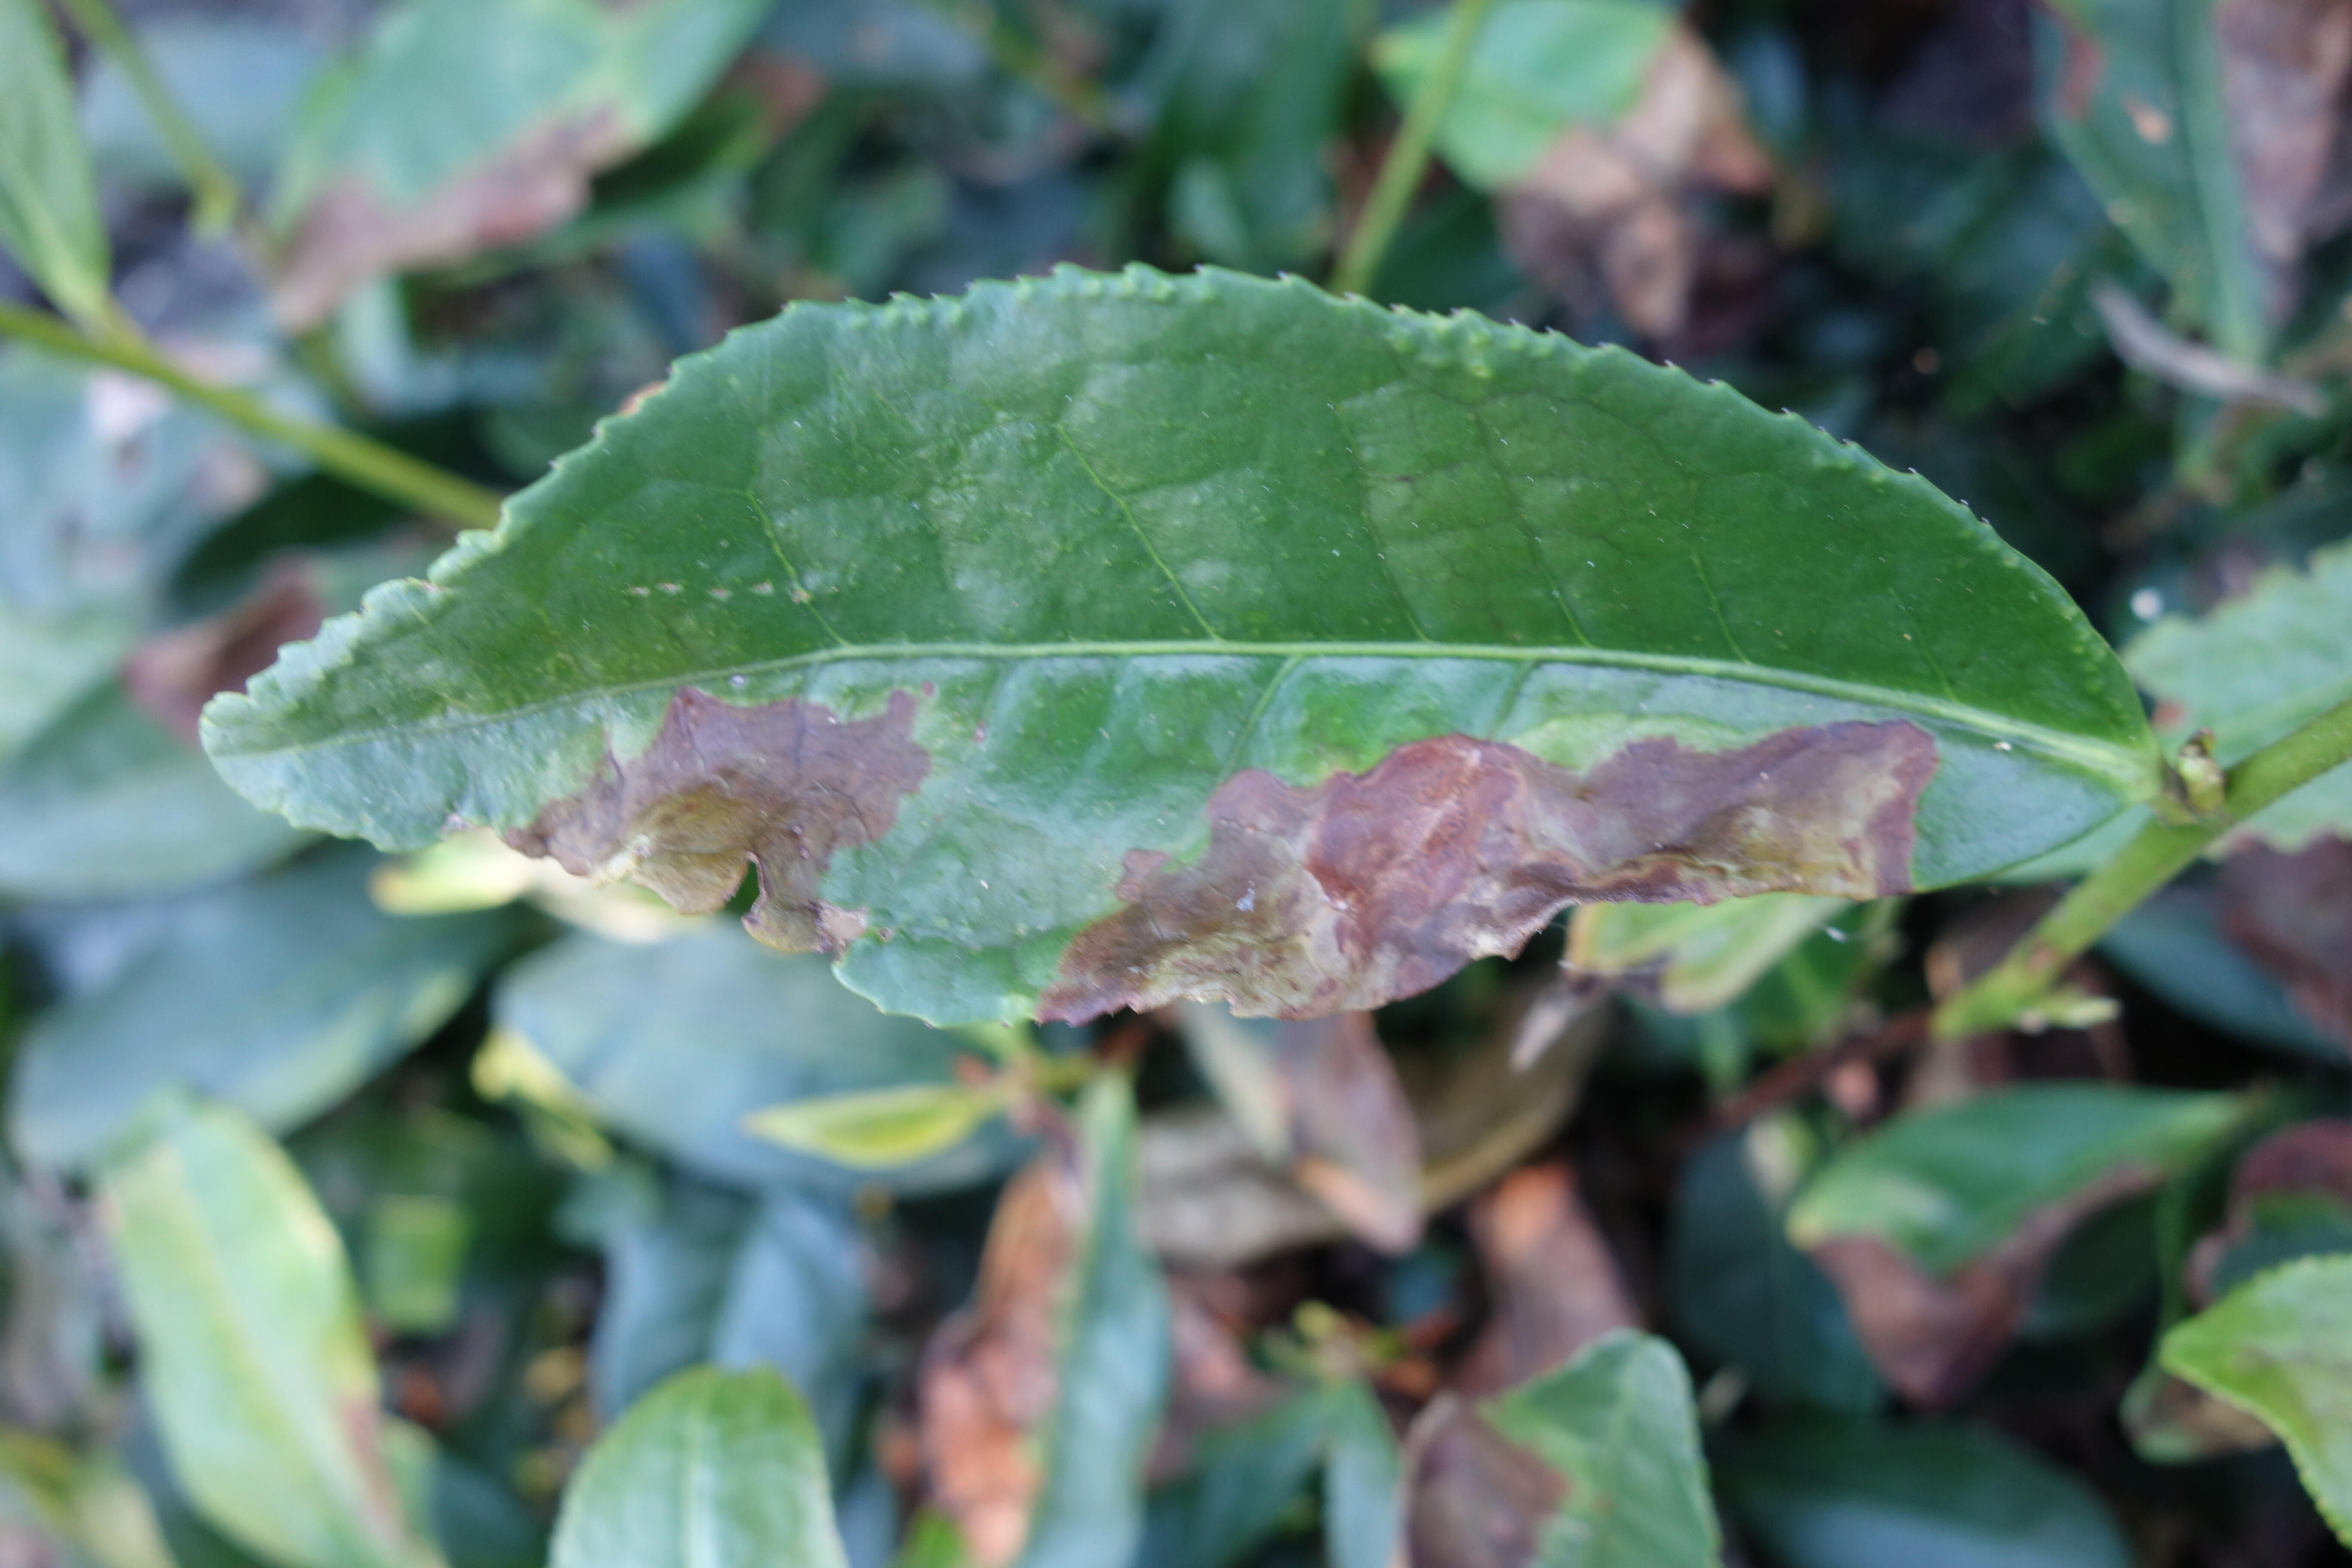tanju_high: (203, 257, 2154, 1036)
